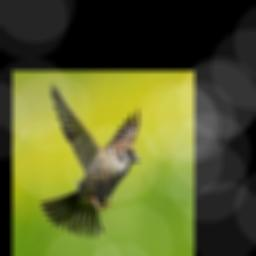Sparrow: (40, 80, 139, 238)
